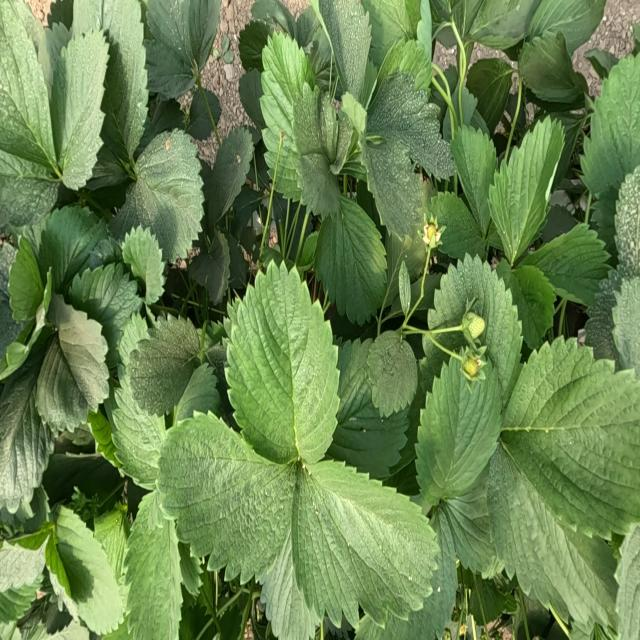Leaves: (505, 339, 639, 536), (487, 448, 616, 633), (293, 460, 437, 622), (158, 414, 295, 577), (228, 266, 338, 463), (425, 255, 522, 400), (355, 509, 459, 639), (110, 132, 203, 262), (415, 358, 502, 496), (331, 338, 410, 477), (489, 117, 563, 261), (260, 33, 322, 199), (314, 195, 387, 323), (35, 305, 107, 430), (51, 30, 107, 188), (55, 506, 123, 633), (1, 7, 54, 169), (126, 491, 182, 638), (581, 55, 639, 196), (521, 223, 610, 306), (1, 371, 53, 511), (146, 1, 220, 99), (101, 1, 147, 156), (129, 315, 199, 415), (386, 175, 434, 305), (70, 263, 143, 347), (260, 534, 315, 639), (110, 383, 165, 485), (365, 140, 422, 238), (317, 0, 371, 102), (202, 127, 253, 234), (40, 205, 107, 286), (497, 260, 554, 347), (440, 491, 498, 576), (180, 572, 252, 639), (451, 124, 496, 231), (519, 32, 584, 105), (0, 147, 59, 227), (368, 331, 418, 417), (527, 0, 605, 53), (361, 0, 420, 65), (428, 192, 484, 259), (403, 109, 455, 179), (467, 58, 514, 132), (471, 0, 540, 50), (584, 269, 620, 362), (123, 225, 164, 303), (94, 503, 129, 587), (9, 236, 43, 321), (295, 9, 331, 89), (188, 233, 228, 303), (612, 278, 639, 379), (86, 136, 136, 190), (615, 168, 639, 279), (298, 153, 340, 216), (1, 535, 49, 590), (174, 364, 219, 422), (139, 100, 184, 150), (116, 312, 149, 367), (471, 575, 506, 624), (591, 187, 618, 250), (251, 1, 295, 38), (239, 21, 271, 70), (239, 70, 265, 130), (190, 91, 221, 140), (233, 185, 261, 236), (227, 235, 248, 289), (103, 114, 114, 130)
Strawberries: (463, 314, 483, 339), (423, 222, 439, 247), (465, 358, 478, 375)
